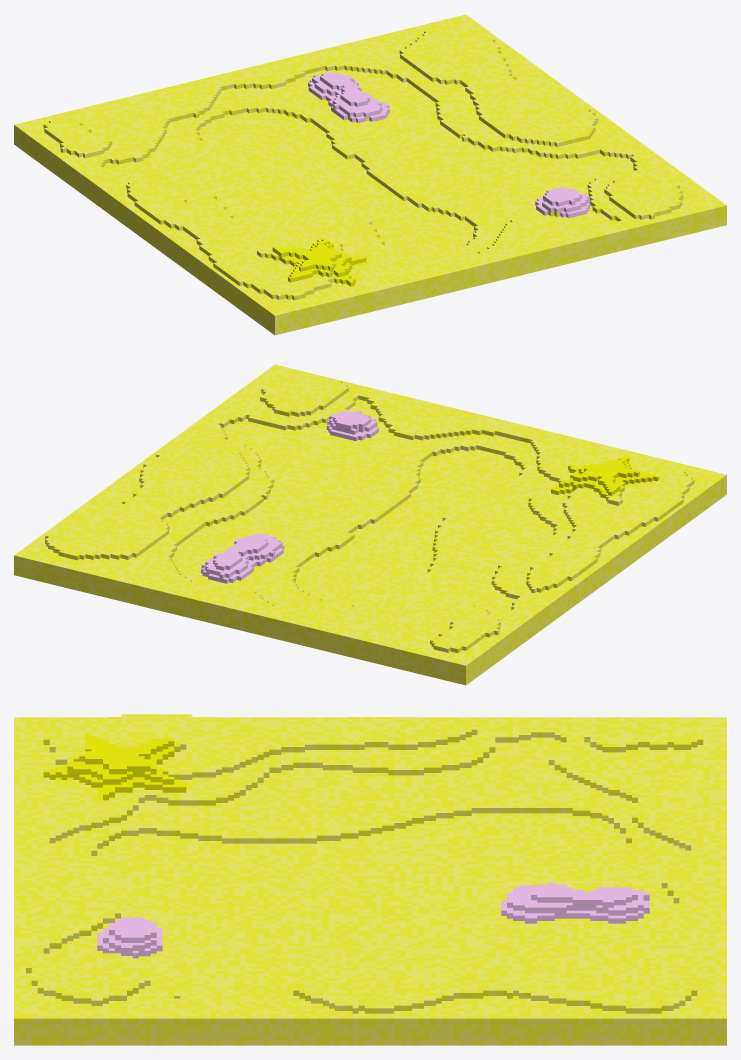
The model's file is sand_asset_1.obj.
3 views of the same model, one above another, from view 1: azimuth 30°, elevation 25°; view 2: azimuth 150°, elevation 25°; view 3: azimuth 270°, elevation 25° (orthographic). The views are drawn at different scales.
Bounding box in the file's own units: 12 × 0.8 × 12.
1 material, 1 textured.
